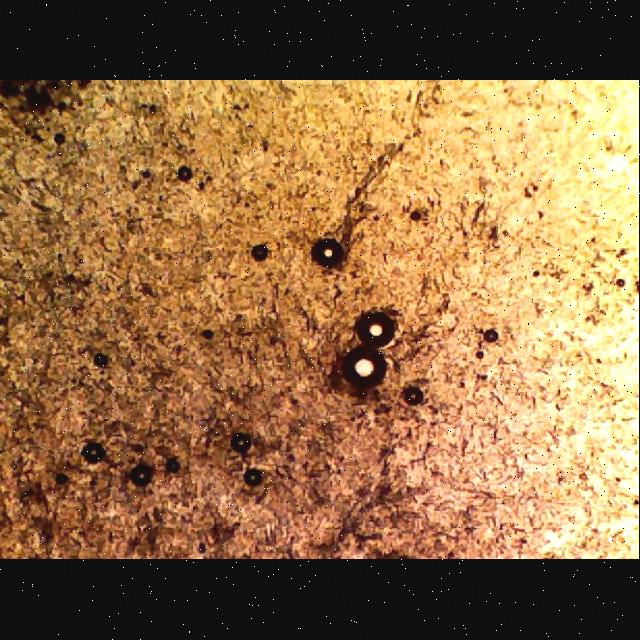microbeads: (342, 348, 390, 388), (356, 308, 400, 349), (308, 234, 346, 274), (128, 464, 156, 490), (80, 441, 106, 465), (402, 386, 428, 409), (231, 432, 255, 453), (250, 243, 270, 263), (244, 468, 264, 488), (94, 352, 110, 372), (165, 458, 183, 474)
